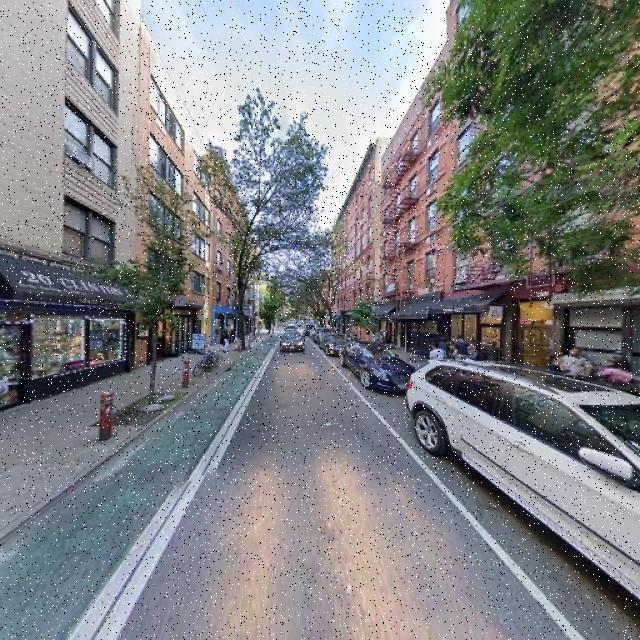Building: (382, 1, 640, 427), (1, 1, 132, 404), (137, 17, 208, 363), (315, 185, 379, 347), (212, 209, 258, 340)
